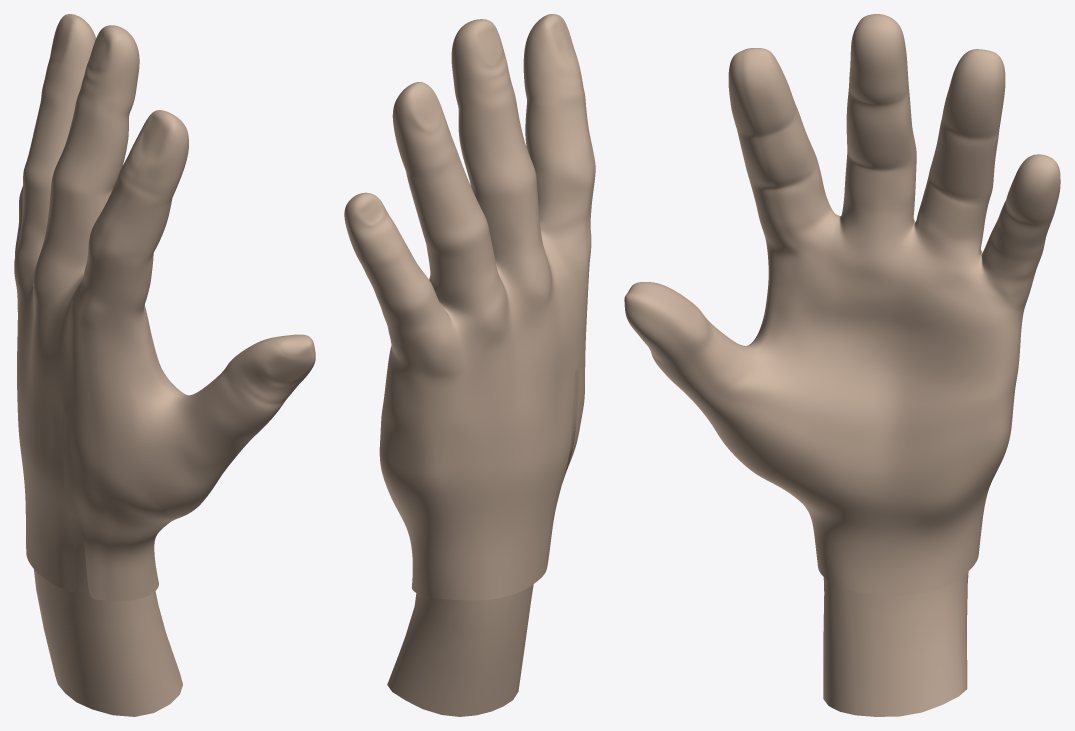
The model's file is LOV 3.glb.
3 views of the same model, side by side, from view 1: azimuth 30°, elevation 25°; view 2: azimuth 150°, elevation 25°; view 3: azimuth 270°, elevation 25° (orthographic).
Visible parts, largest first — view 1: gloves, hand; view 2: gloves, hand; view 3: gloves, hand.
Boxes of the visible parts, x1,y1,x2,y2 form: gloves: (14, 14, 315, 601); hand: (34, 409, 182, 716); gloves: (344, 14, 595, 600); hand: (387, 368, 578, 716); gloves: (624, 14, 1060, 595); hand: (823, 571, 968, 716).
Size of the model in its own units: 0.648 by 2.59 by 1.51.
